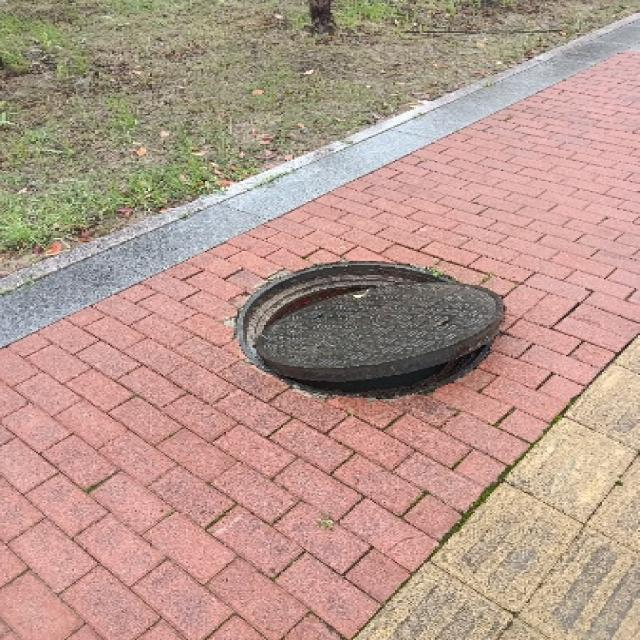Faulty: (224, 246, 513, 419)
